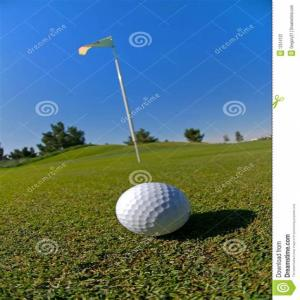Golf: (118, 182, 192, 240)
